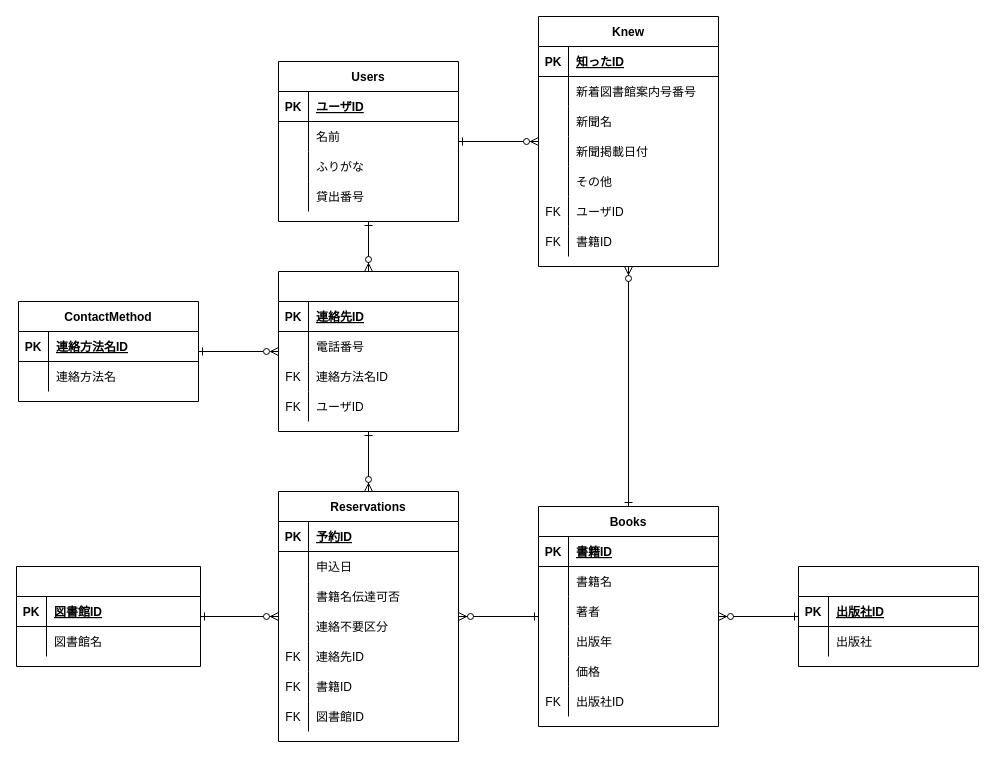
The diagram is 995 pixels wide and 758 high, and some of its shapes have lost their labels. Each missing label, with the box of its shape:
ContactAddress: (278, 270, 458, 432)
Libraries: (16, 566, 200, 666)
Publishers: (798, 566, 978, 666)
